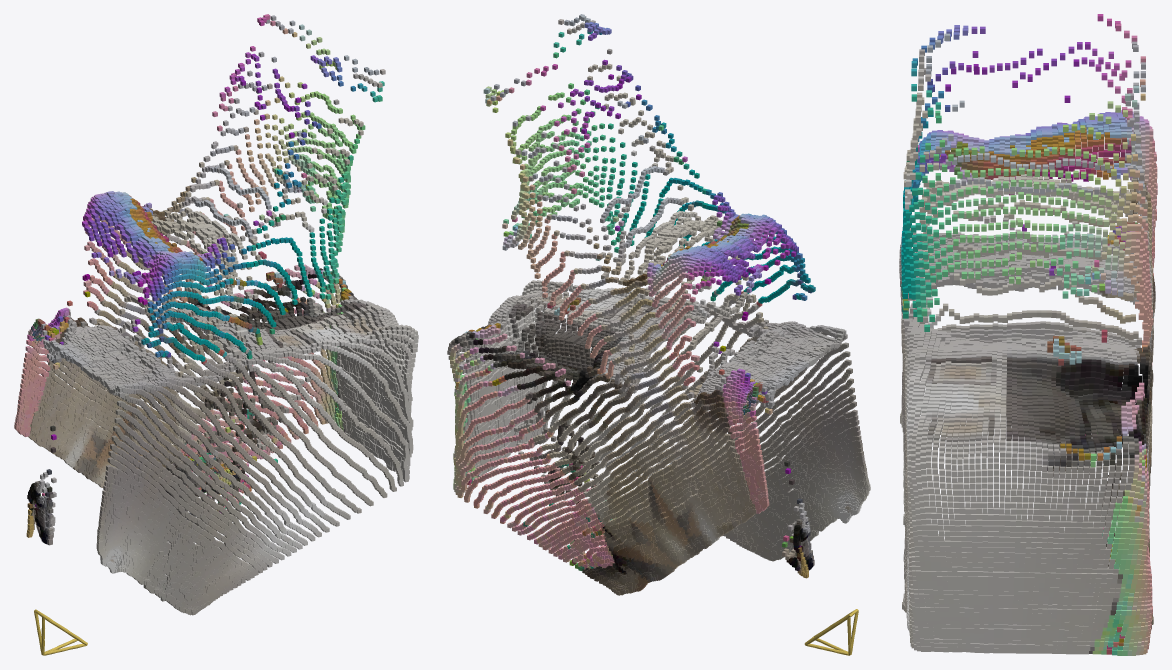
The model's file is pred_2-compressed.glb.
The picture shows the model from 3 angles, left to right: view 1: azimuth 30°, elevation 25°; view 2: azimuth 150°, elevation 25°; view 3: azimuth 270°, elevation 25°; orthographic projection. The views are drawn at different scales.
Bounding box in the file's own units: 5.04 × 7.44 × 2.35.
